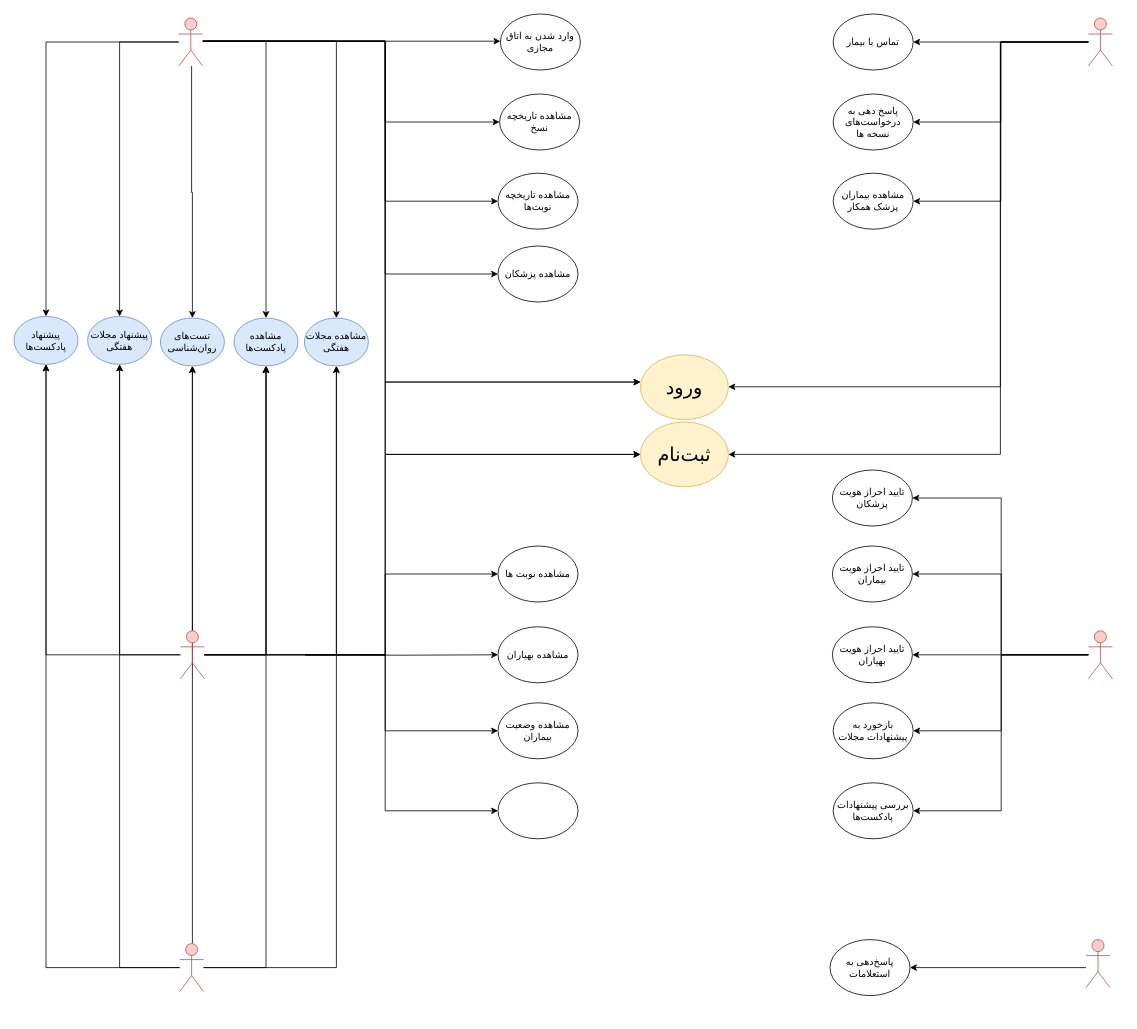
The diagram is 1137 pixels wide and 1029 high, and some of its shapes have lost their labels. The shapes that lost their labels are listed below. From the top down, each one's box as (x1, y1, x2, y2) in pixels, then its label:
(178, 17, 203, 66): بیمار
(1088, 17, 1112, 66): بهیار
(180, 630, 204, 679): پزشک
(1088, 630, 1112, 679): ادمین
(179, 943, 204, 992): کاربر بدون نقش
(1085, 939, 1110, 988): داروخانه
